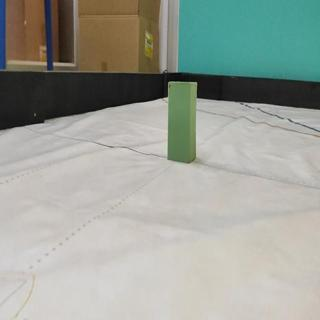greenbox: (167, 81, 197, 163)
